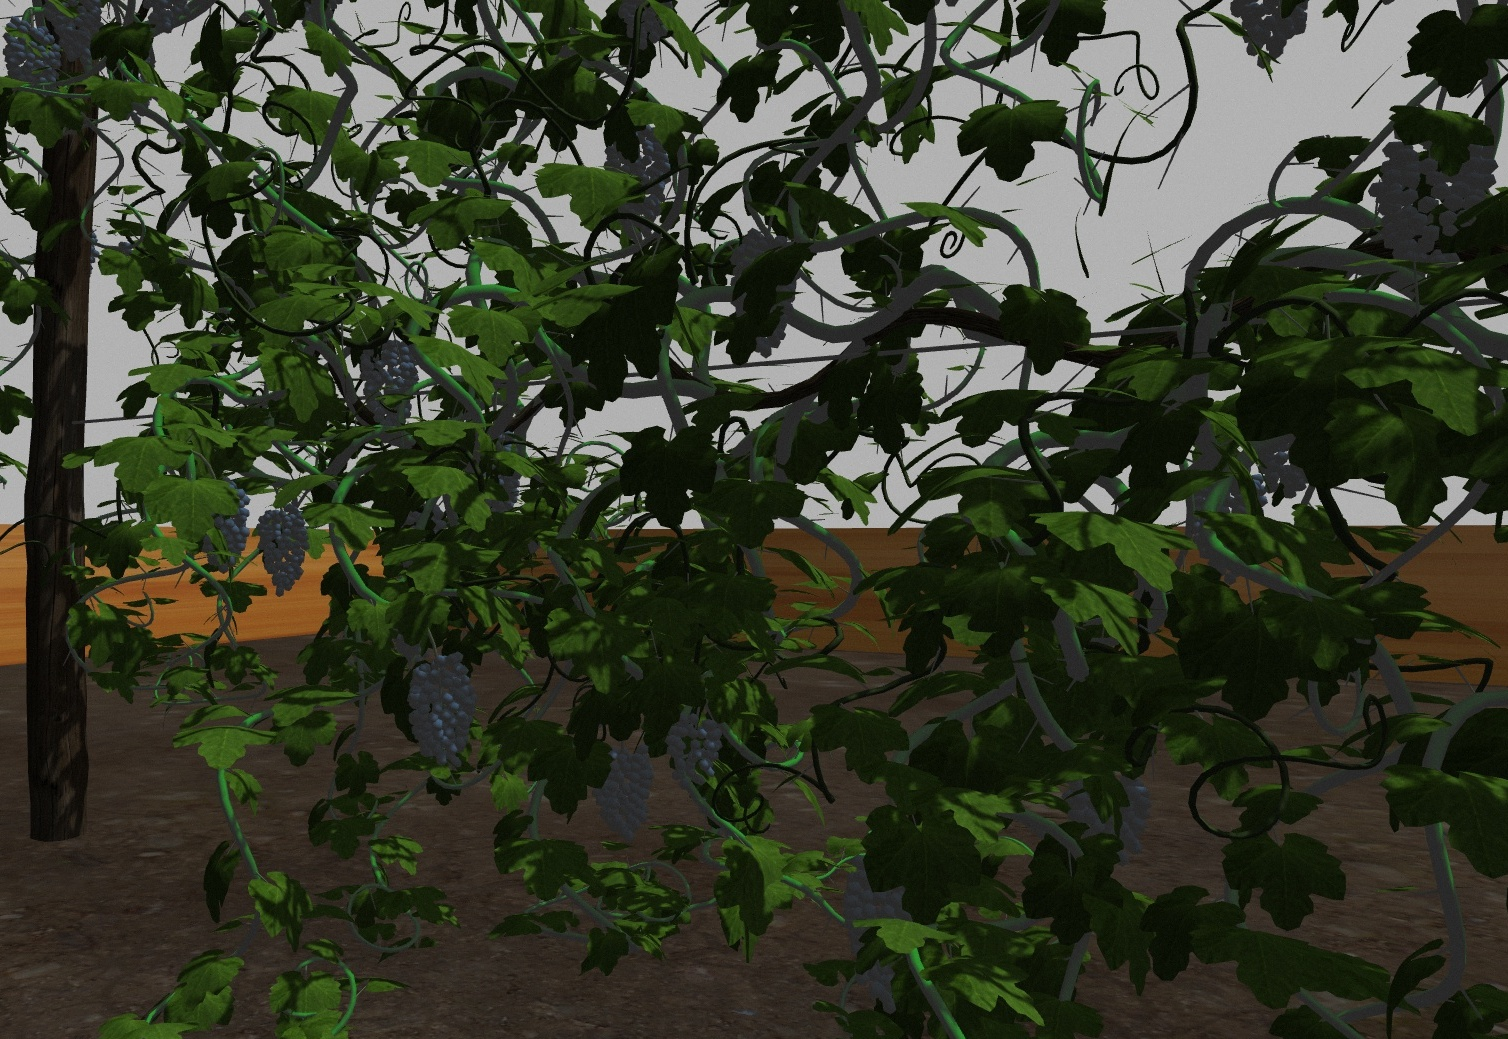grape: (1366, 136, 1501, 270), (839, 855, 919, 1013), (406, 650, 480, 770), (1065, 777, 1154, 865), (592, 745, 655, 840), (358, 341, 417, 428), (259, 507, 314, 595), (665, 714, 726, 784), (1, 18, 58, 89), (204, 488, 251, 573)
